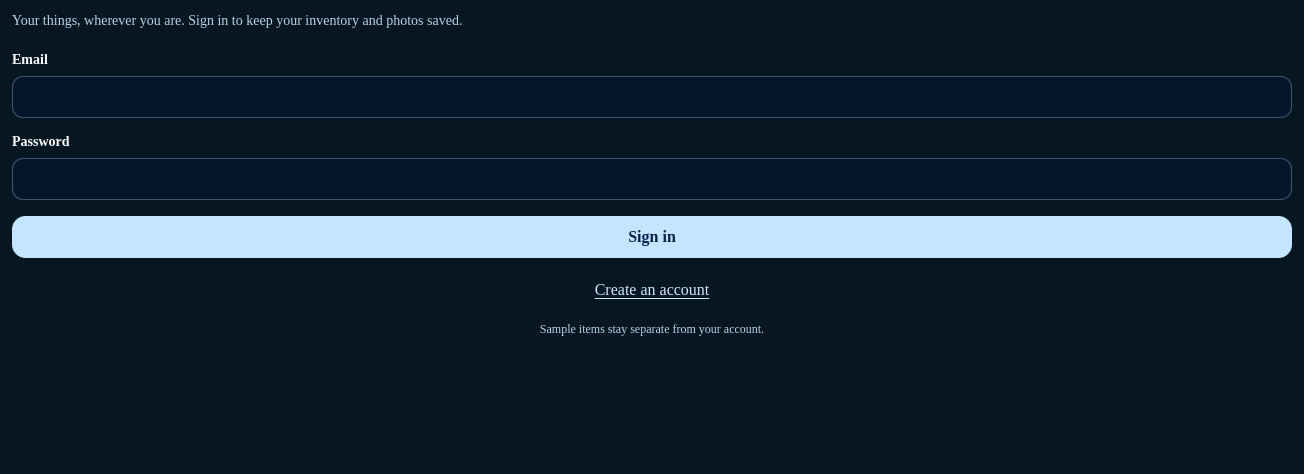
Test: reports unconfirmed email and resends only on explicit request
Type "person@example.com" into the field labelled "Email".
click(652, 97); type("person@example.com")  # box [12, 76, 1292, 118]
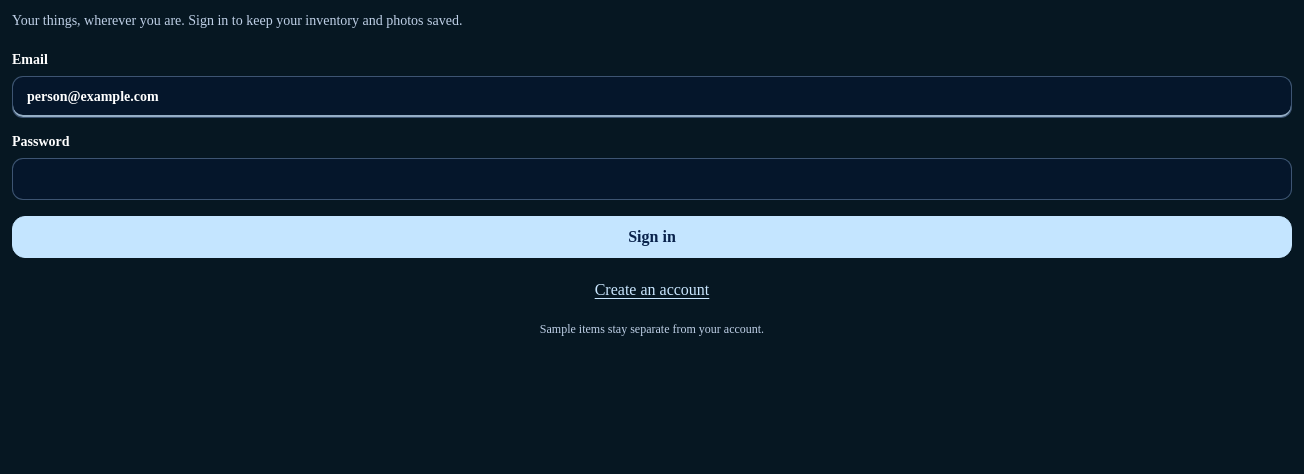
Type "test-password" into the password field labelled "Password".
click(652, 179); type("test-password")  # box [12, 158, 1292, 200]
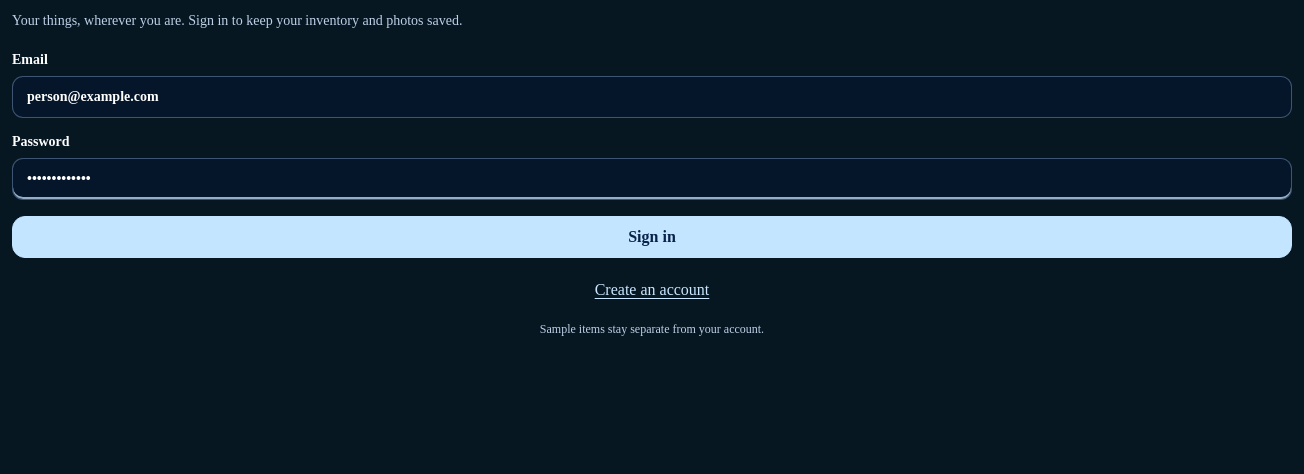
Click the button "Sign in".
click(652, 237)  # box [12, 216, 1292, 258]
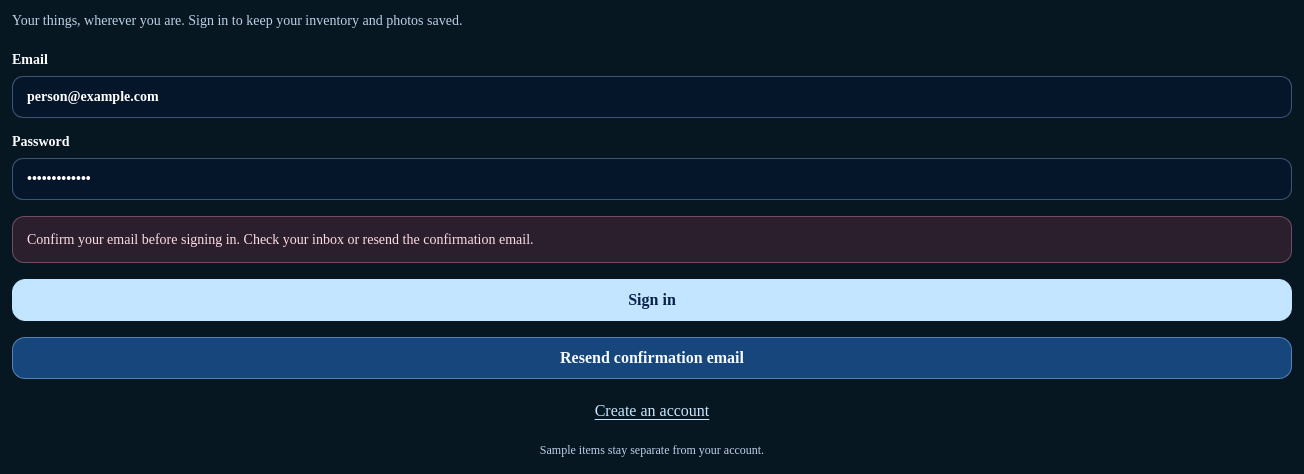
Expected: the message shows "Confirm your email", [27, 232, 534, 247]
Click the button "Resend confirmation email".
click(652, 358)  # box [12, 337, 1292, 379]
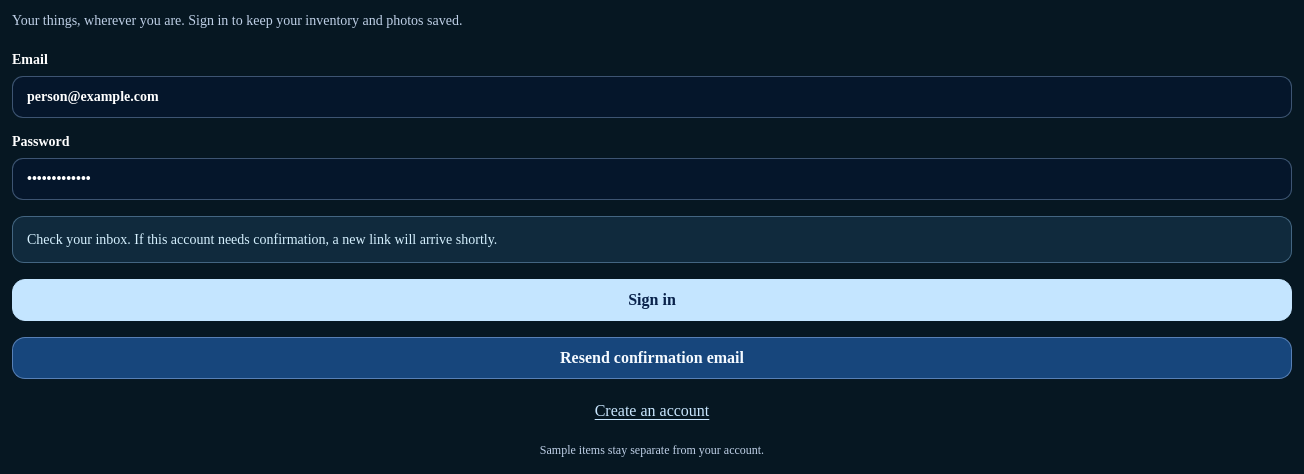
Expected: the message shows "Check your inbox", [27, 232, 497, 247]
